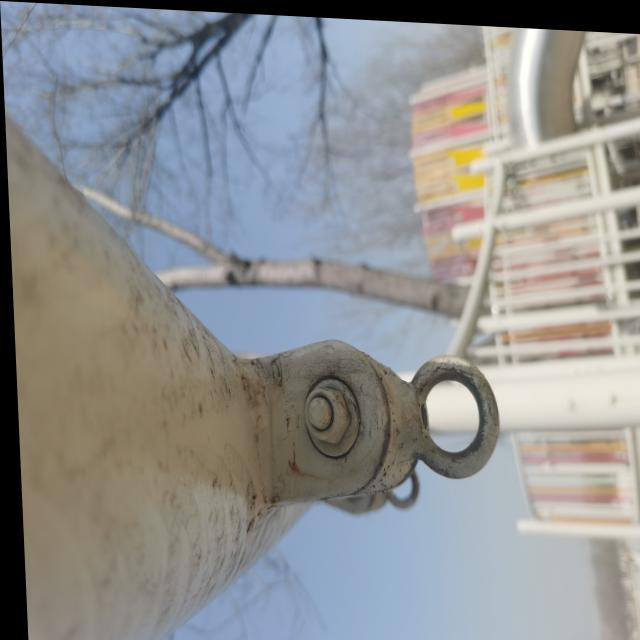Regular bolt: (300, 381, 348, 442)
